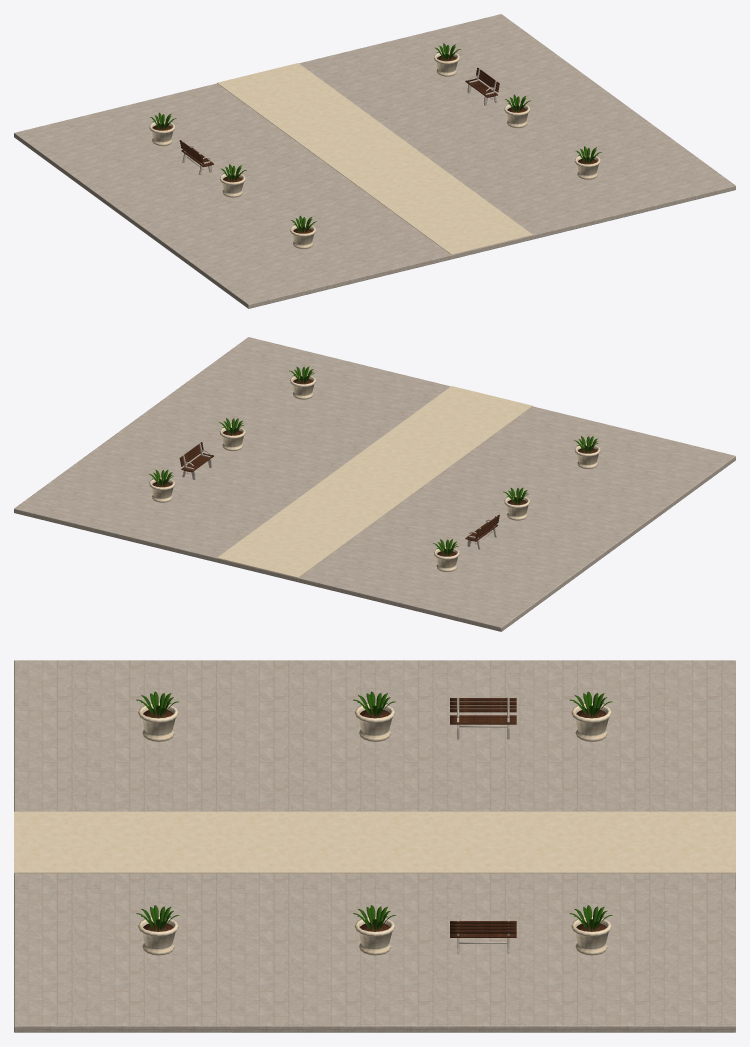
Rendered from explore3d__finish_park_garden.glb.
3 views of the same model, one above another, from view 1: azimuth 30°, elevation 25°; view 2: azimuth 150°, elevation 25°; view 3: azimuth 270°, elevation 25° (orthographic). The views are drawn at different scales.
Parts seen in each view (by area): view 1: exterior_garden_path; view 2: exterior_garden_path; view 3: exterior_garden_path.
Boxes of the visible parts, left/top/right/bottom form: exterior_garden_path: left=14, top=14, right=735, bottom=308; exterior_garden_path: left=14, top=337, right=735, bottom=631; exterior_garden_path: left=14, top=660, right=735, bottom=1032.
Size of the model in its own units: 24 by 1.36 by 20.
Materials: 7 (7 with a texture image).
